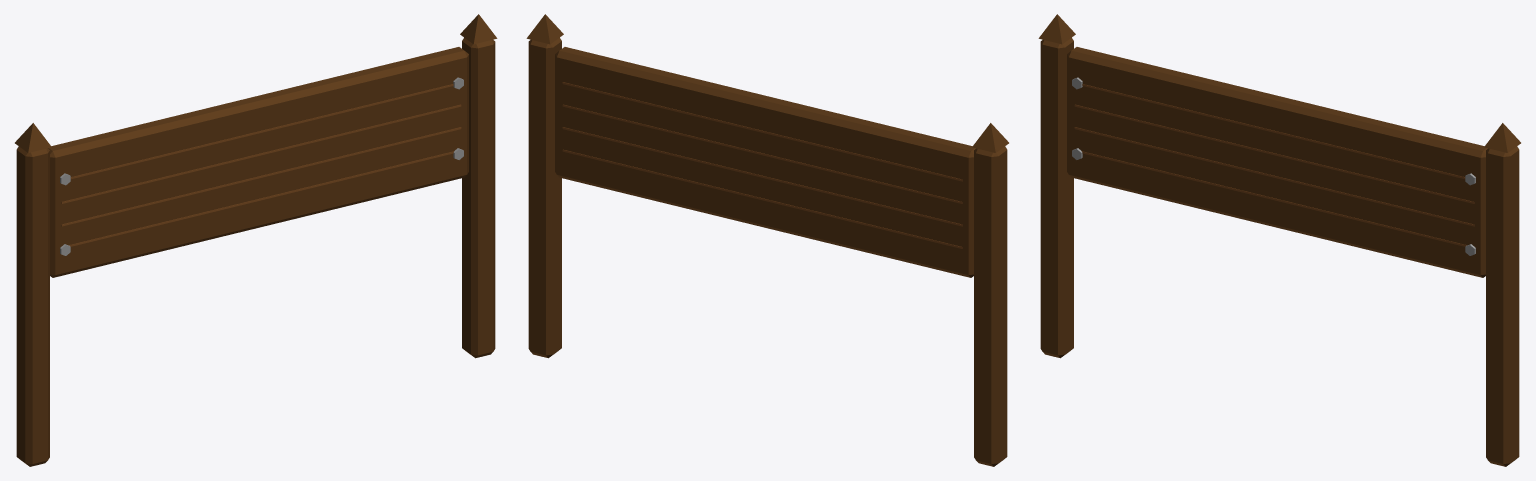
Rendered from schild-pfosten.glb.
3 renders of one model, left to right at view 1: azimuth 30°, elevation 25°; view 2: azimuth 150°, elevation 25°; view 3: azimuth 330°, elevation 25°, orthographic.
Visible parts, largest first — view 1: schild-m; view 2: schild-m; view 3: schild-m.
Part boxes in pixels (x1=…): schild-m: x1=15, y1=14, x2=497, y2=466; schild-m: x1=526, y1=14, x2=1008, y2=466; schild-m: x1=1038, y1=14, x2=1520, y2=466.
Bounding box in the file's own units: 3.06 × 2.11 × 0.16.
